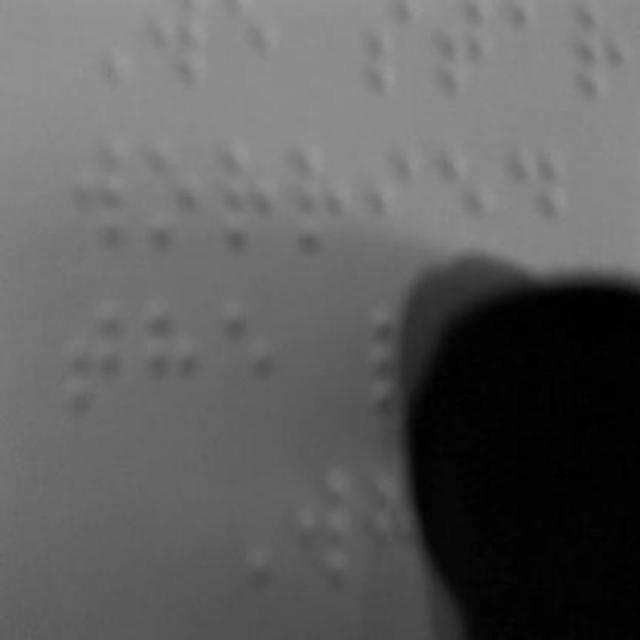braiile: (290, 444, 362, 592), (286, 128, 358, 262), (140, 289, 206, 433), (64, 282, 128, 428), (218, 282, 284, 422), (136, 124, 208, 252), (212, 121, 280, 253), (508, 134, 574, 270), (66, 122, 132, 255), (438, 133, 500, 271), (368, 132, 428, 260)
